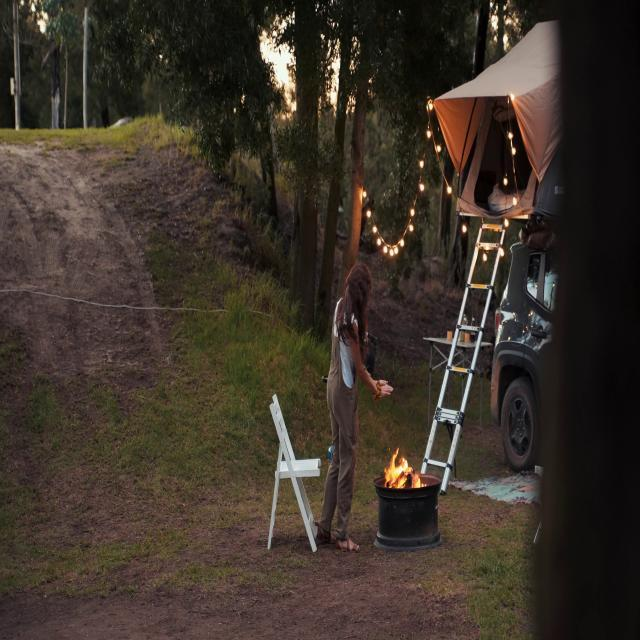Fire: (384, 438, 422, 492)
